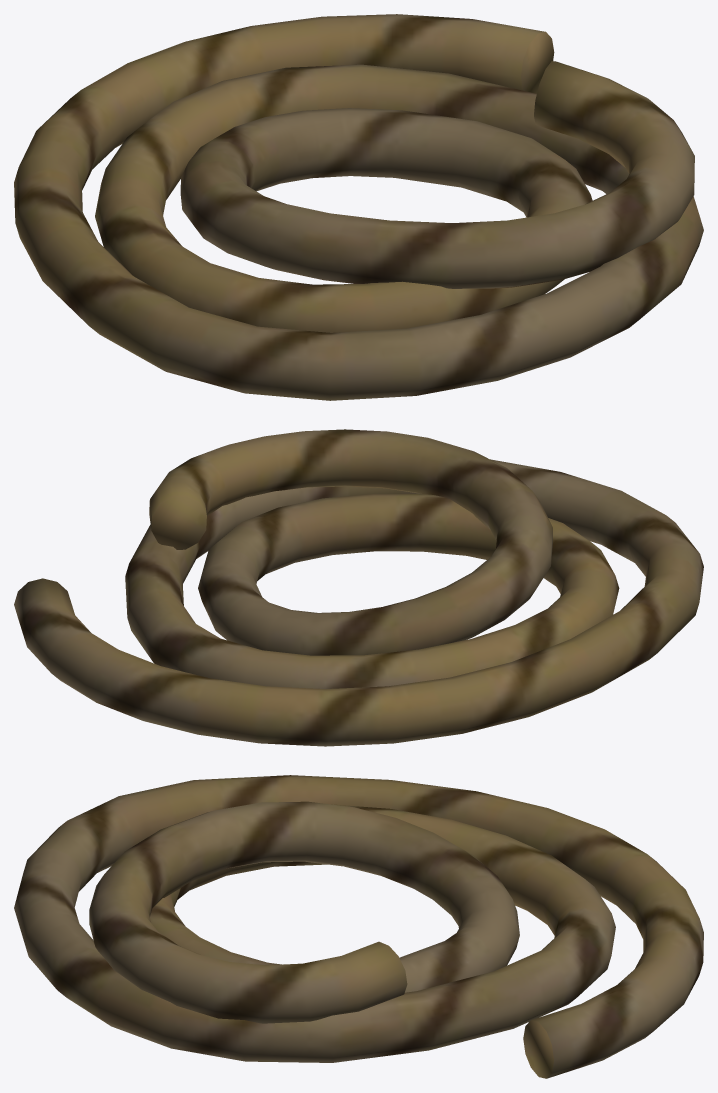
Rendered from quaternius-fantasy-props-rope-1.glb.
3 views of the same model, one above another, from view 1: azimuth 30°, elevation 25°; view 2: azimuth 150°, elevation 25°; view 3: azimuth 270°, elevation 25° (orthographic). The views are drawn at different scales.
Parts seen in each view (by area): view 1: Rope_1; view 2: Rope_1; view 3: Rope_1.
Part boxes in pixels (bbox=[...]): Rope_1: bbox=[14, 14, 703, 400]; Rope_1: bbox=[14, 429, 703, 746]; Rope_1: bbox=[14, 775, 703, 1078].
Size of the model in its own units: 0.7355 by 0.1291 by 0.8.
Materials: 1 (1 with a texture image).
